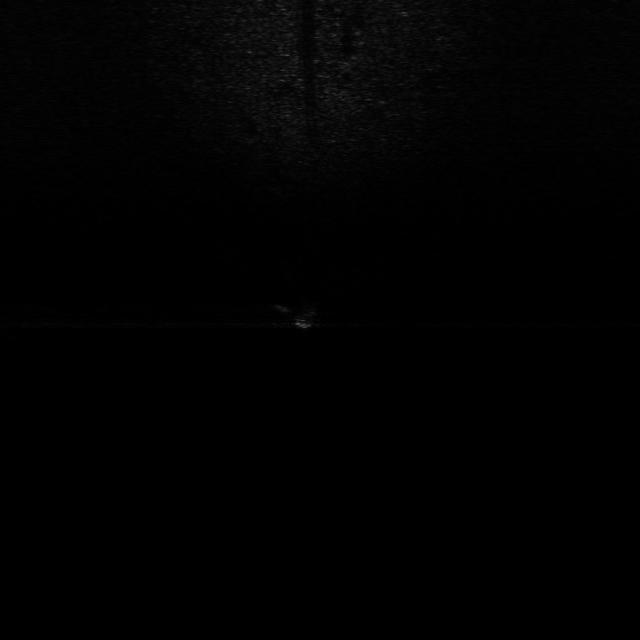human body: (242, 296, 329, 335)
